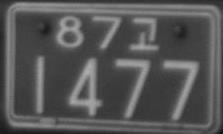1: (25, 56, 59, 113)
4: (67, 57, 103, 116)
7: (163, 58, 200, 121), (115, 57, 150, 117), (91, 14, 122, 49)
8: (56, 15, 84, 48)
고: (129, 17, 159, 50)
